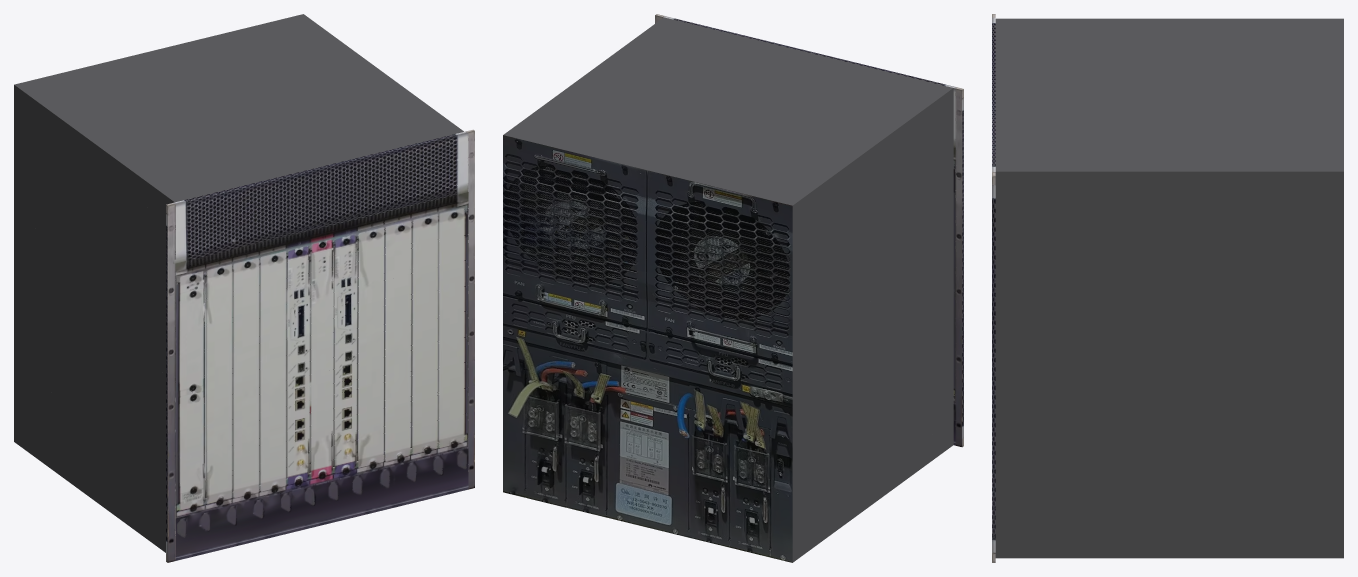
3 renders of one model, left to right at view 1: azimuth 30°, elevation 25°; view 2: azimuth 150°, elevation 25°; view 3: azimuth 270°, elevation 25°, orthographic. The views are drawn at different scales.
Visible parts, largest first — view 1: NE40E-X8; view 2: NE40E-X8; view 3: NE40E-X8.
Part boxes in pixels (x1,y1,x2,y2): NE40E-X8: (14, 14, 474, 562); NE40E-X8: (503, 14, 963, 562); NE40E-X8: (992, 14, 1343, 562).
Size of the model in its own units: 560 by 622 by 513.
3 materials, 2 textured.
